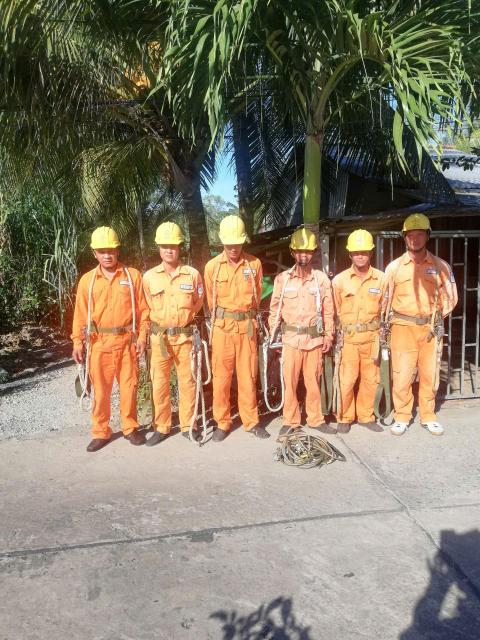harness: (143, 315, 208, 342), (384, 304, 446, 330), (83, 315, 141, 341), (213, 299, 259, 326), (277, 316, 326, 341), (337, 314, 381, 338)
helmet: (215, 215, 251, 245), (282, 227, 323, 252), (88, 224, 123, 253), (149, 220, 184, 247), (398, 210, 432, 234), (345, 229, 380, 252)
shoes: (205, 420, 233, 444), (239, 421, 271, 441), (308, 416, 338, 437), (118, 425, 147, 446), (80, 431, 110, 451), (418, 417, 444, 440), (146, 422, 166, 450), (389, 414, 412, 436), (356, 416, 385, 433), (180, 427, 206, 444), (272, 419, 294, 436), (335, 411, 349, 436)
